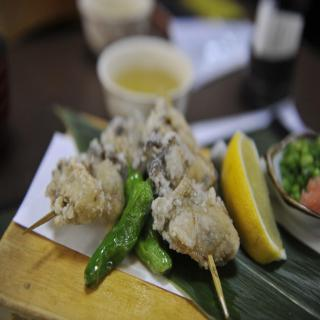Lemon: (221, 129, 284, 266)
